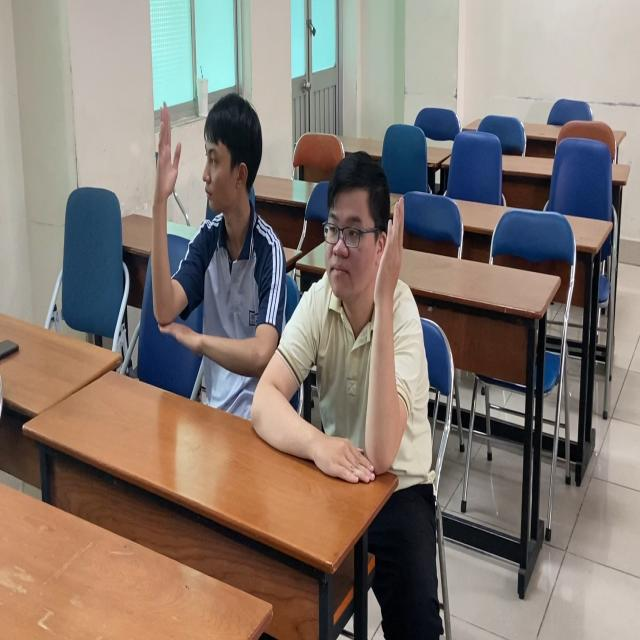raise_hand: (246, 151, 423, 493)
